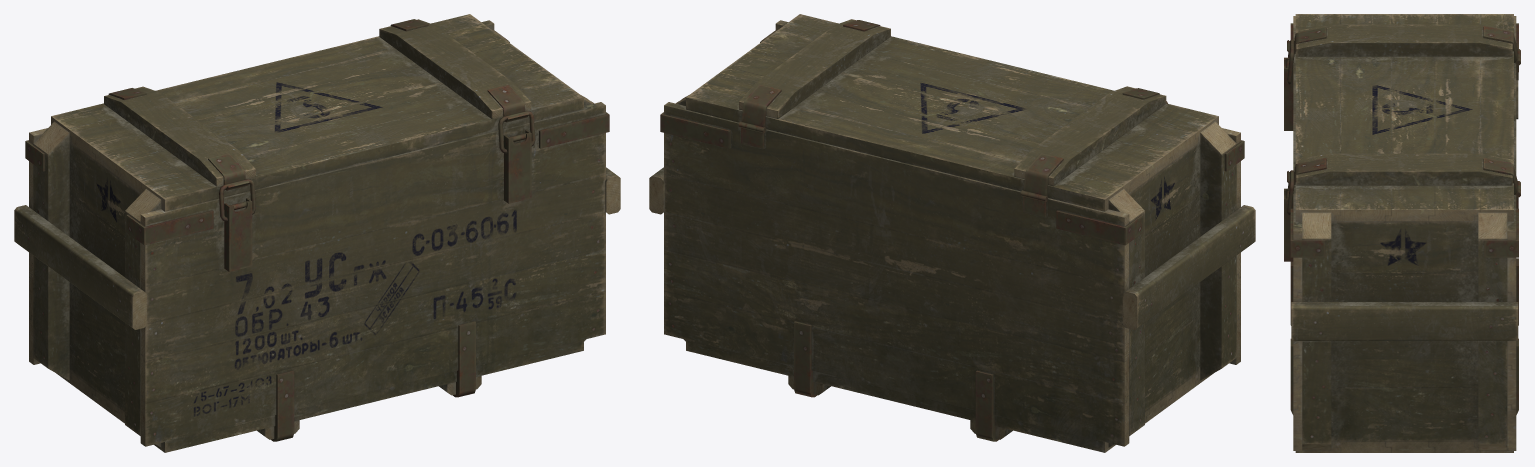
File: reloadkit.glb
The picture shows the model from 3 angles, left to right: view 1: azimuth 30°, elevation 25°; view 2: azimuth 150°, elevation 25°; view 3: azimuth 270°, elevation 25°; orthographic projection. The views are drawn at different scales.
Visible parts, largest first — view 1: Box_low, Wood_detail_low, Metal_detail_low; view 2: Box_low, Wood_detail_low, Metal_detail_low; view 3: Box_low, Wood_detail_low, Metal_detail_low.
Boxes of the visible parts, left/top/right/bottom form: Box_low: left=29, top=14, right=605, bottom=452; Wood_detail_low: left=14, top=19, right=620, bottom=447; Metal_detail_low: left=25, top=19, right=609, bottom=441; Box_low: left=664, top=14, right=1240, bottom=452; Wood_detail_low: left=649, top=19, right=1255, bottom=447; Metal_detail_low: left=660, top=20, right=1244, bottom=441; Box_low: left=1293, top=14, right=1516, bottom=452; Wood_detail_low: left=1291, top=24, right=1518, bottom=450; Metal_detail_low: left=1284, top=23, right=1520, bottom=414.
Bounding box in the file's own units: 0.8476 × 0.4744 × 0.3714.
Materials: 1 (1 with a texture image).
